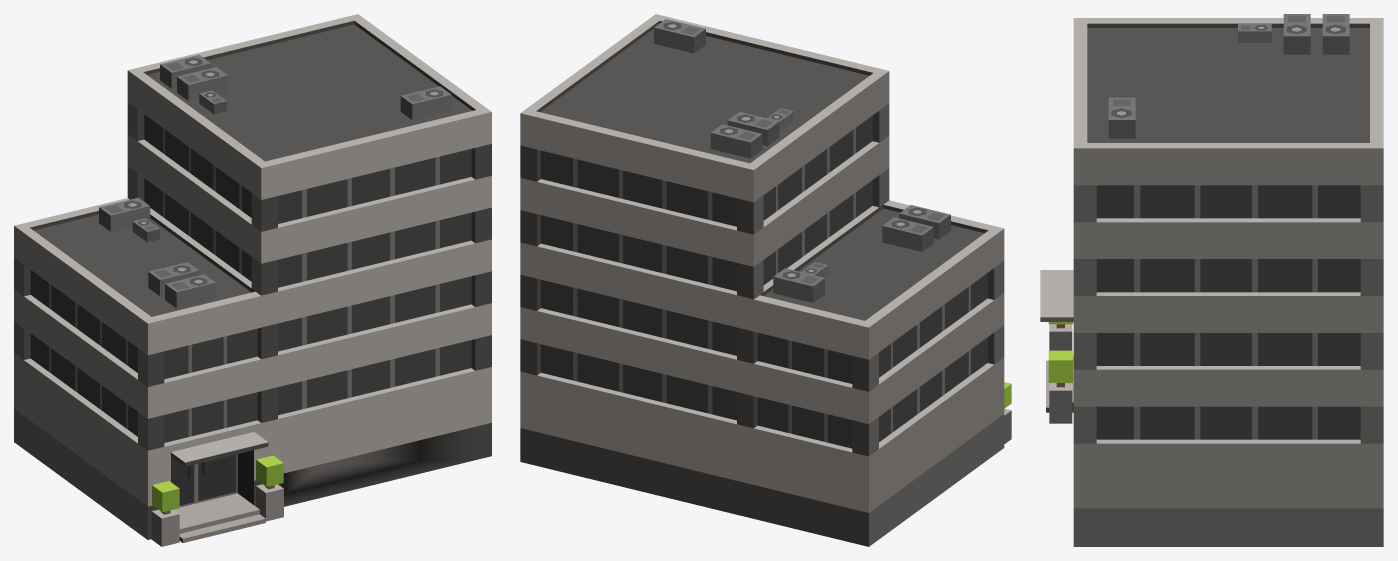
File: office_step1.obj
3 views of the same model, side by side, from view 1: azimuth 30°, elevation 25°; view 2: azimuth 150°, elevation 25°; view 3: azimuth 270°, elevation 25° (orthographic). The views are drawn at different scales.
Visible parts, largest first — view 1: ST_Building_OfficeStepped_Grey_Untitled; view 2: ST_Building_OfficeStepped_Grey_Untitled; view 3: ST_Building_OfficeStepped_Grey_Untitled.
Part boxes in pixels (x1=…): ST_Building_OfficeStepped_Grey_Untitled: x1=14, y1=14, x2=491, y2=546; ST_Building_OfficeStepped_Grey_Untitled: x1=520, y1=14, x2=1011, y2=546; ST_Building_OfficeStepped_Grey_Untitled: x1=1040, y1=14, x2=1383, y2=546.
Size of the model in its own units: 20.33 by 20.13 by 15.17.
Materials: 1 (1 with a texture image).
